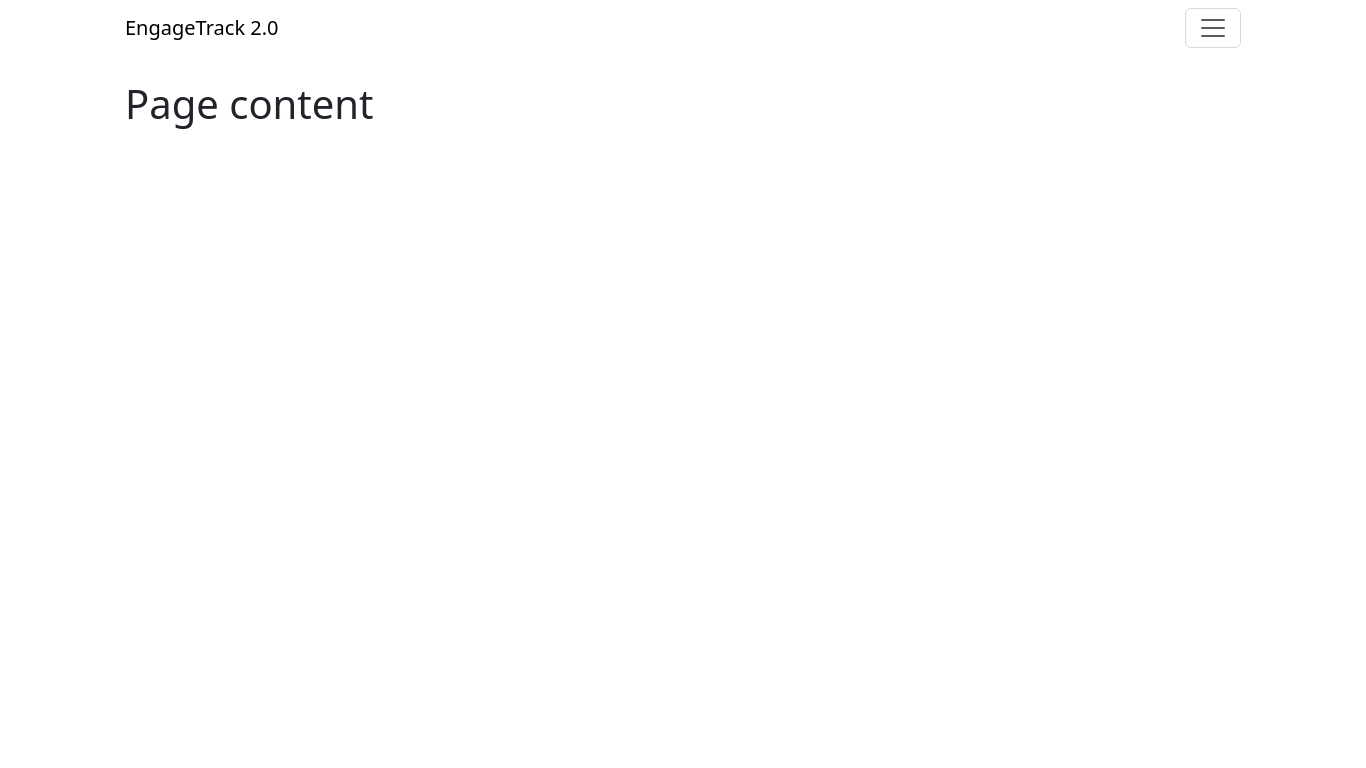
Test: <AppShell /> drawer (small screens) › opens from the menu button and updates aria-expanded
Step 1. Click the button → (1213, 28), box [1185,8,1241,48]
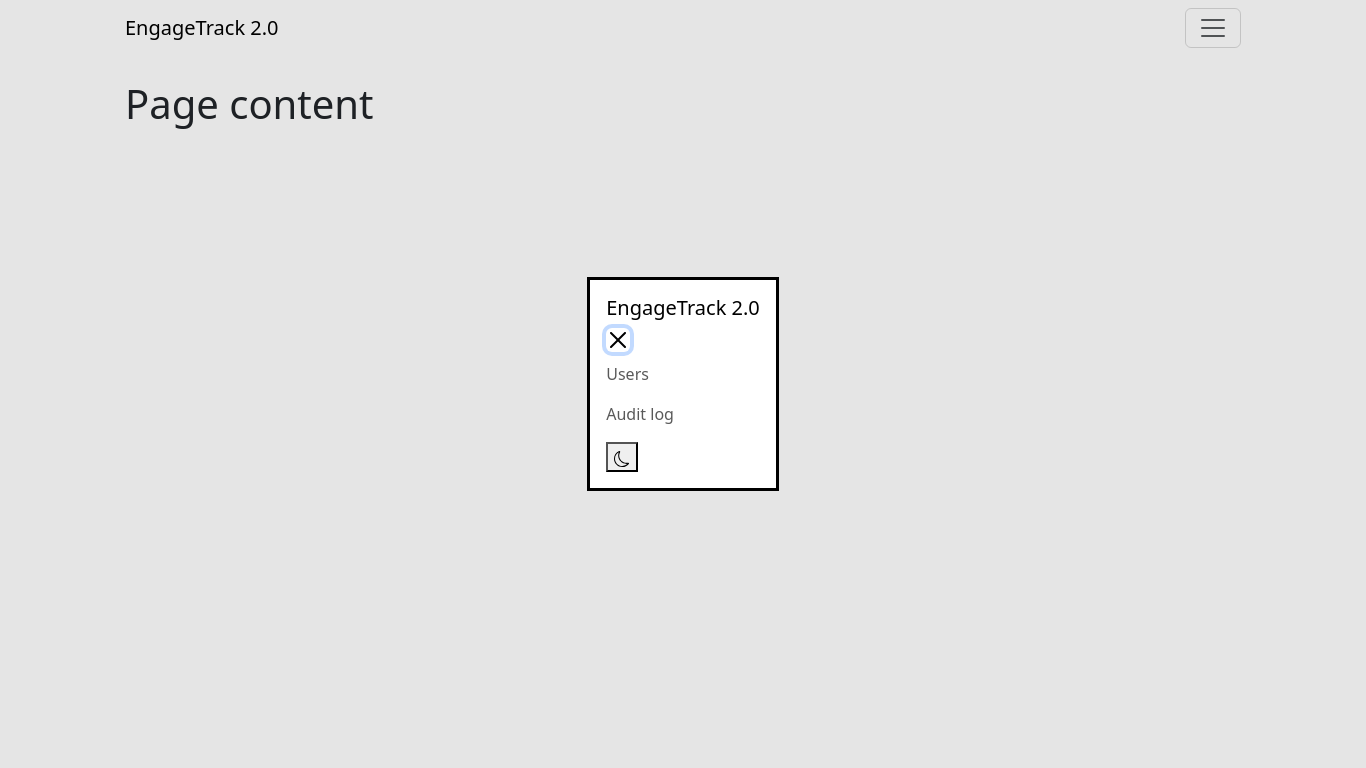
Expected: the 1st button named "Close menu" is expanded, [1185,8,1241,48]
Expected: the link "Users" is shown, [606,363,649,385]
